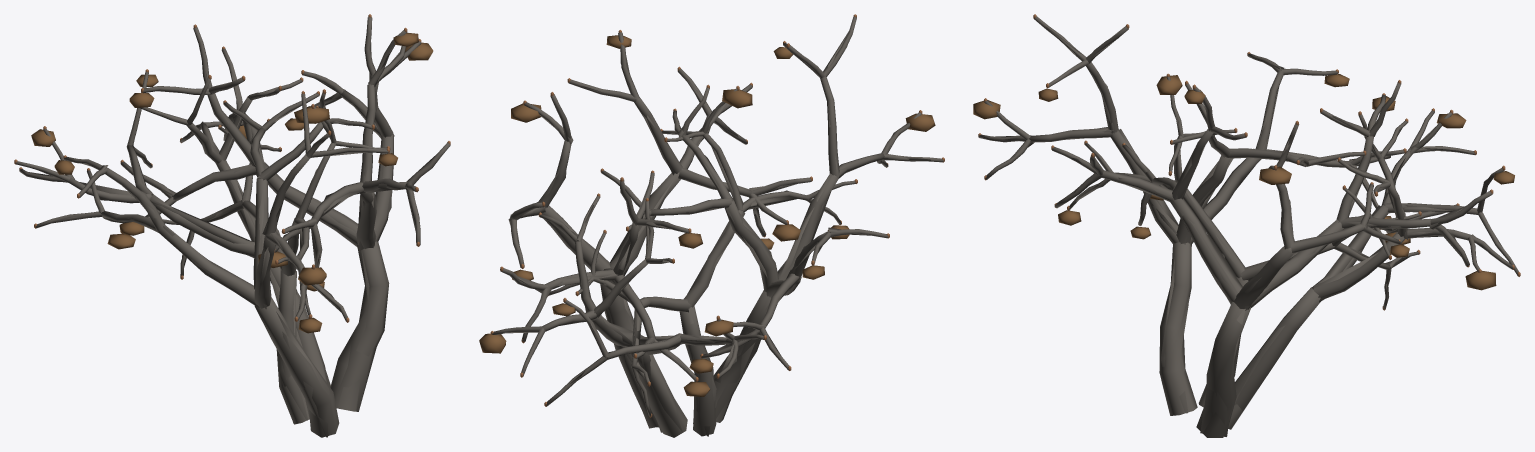
The model's file is scrub_oak_0.glb.
3 renders of one model, left to right at view 1: azimuth 30°, elevation 25°; view 2: azimuth 150°, elevation 25°; view 3: azimuth 270°, elevation 25°, orthographic.
Visible parts, largest first — view 1: ScrubOak_LimbWood_0, ScrubOak_LimbWood_3, ScrubOak_Far_Bark, ScrubOak_LimbWood_1, ScrubOak_LimbWood_2, ScrubOak_Dead_54_Leaves, ScrubOak_Dead_58_Leaves; view 2: ScrubOak_LimbWood_0, ScrubOak_LimbWood_3, ScrubOak_Far_Bark, ScrubOak_LimbWood_1, ScrubOak_LimbWood_2, ScrubOak_Dead_54_Leaves, ScrubOak_Dead_27_Leaves; view 3: ScrubOak_LimbWood_0, ScrubOak_LimbWood_3, ScrubOak_Far_Bark, ScrubOak_LimbWood_1, ScrubOak_LimbWood_2.
Boxes of the visible parts, x1,y1,x2,y2 form: ScrubOak_LimbWood_0: (120,17,450,411); ScrubOak_LimbWood_3: (35,92,388,437); ScrubOak_Far_Bark: (27,40,436,437); ScrubOak_LimbWood_1: (16,71,327,383); ScrubOak_LimbWood_2: (162,107,387,424); ScrubOak_Dead_54_Leaves: (294,106,329,123); ScrubOak_Dead_58_Leaves: (298,267,326,285); ScrubOak_LimbWood_0: (500,32,811,427); ScrubOak_LimbWood_3: (601,16,943,422); ScrubOak_Far_Bark: (502,31,930,436); ScrubOak_LimbWood_1: (492,196,763,437); ScrubOak_LimbWood_2: (548,88,855,436); ScrubOak_Dead_54_Leaves: (722,89,752,108); ScrubOak_Dead_27_Leaves: (479,333,506,353); ScrubOak_LimbWood_0: (1052,82,1492,437); ScrubOak_LimbWood_3: (978,16,1404,415); ScrubOak_Far_Bark: (994,26,1507,436); ScrubOak_LimbWood_1: (1234,110,1518,418); ScrubOak_LimbWood_2: (1068,76,1420,407).
Size of what is drawn, in the model's own units: 2.6 by 2.58 by 3.41.
